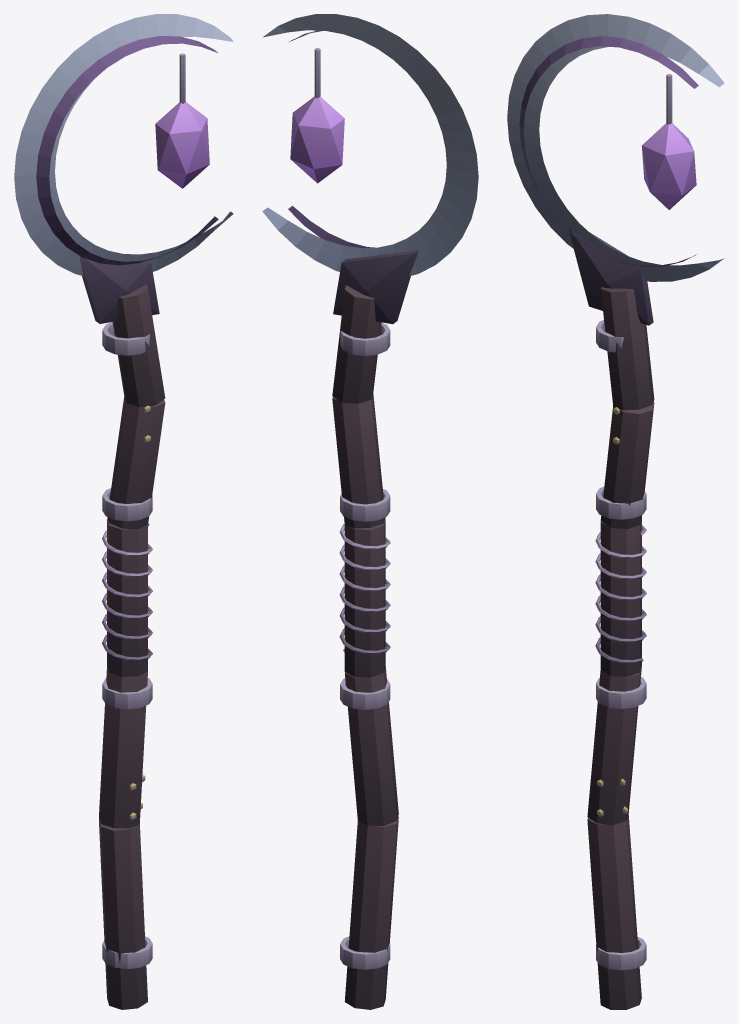
The model's file is baston_media_noche.glb.
3 views of the same model, side by side, from view 1: azimuth 30°, elevation 25°; view 2: azimuth 150°, elevation 25°; view 3: azimuth 330°, elevation 25° (orthographic).
Parts seen in each view (by area): view 1: baston_media_noche_finished; view 2: baston_media_noche_finished; view 3: baston_media_noche_finished.
Part boxes in pixels (x1=…): baston_media_noche_finished: x1=14, y1=14, x2=233, y2=1009; baston_media_noche_finished: x1=262, y1=14, x2=478, y2=1009; baston_media_noche_finished: x1=507, y1=14, x2=724, y2=1009.
Size of the model in its own units: 0.5055 by 2.19 by 0.1138.
2 materials, 2 textured.
